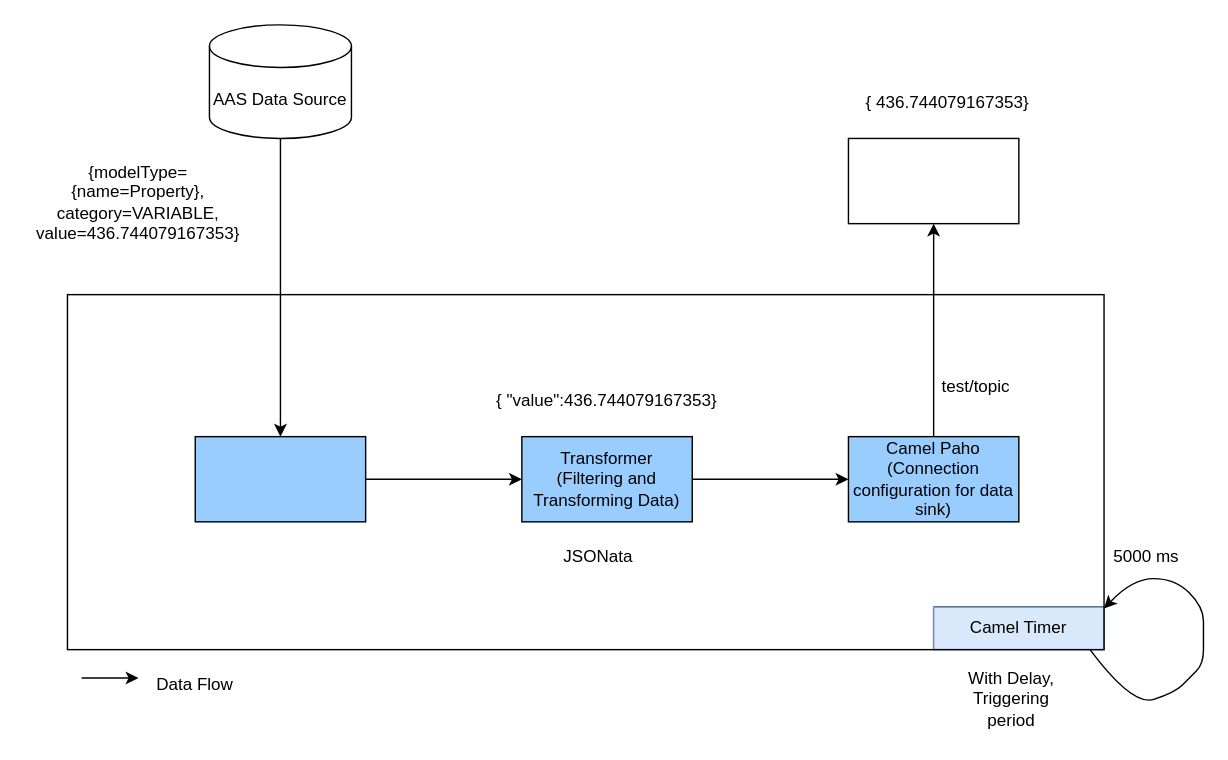
This 1228x760 diagram has some shape labels left out. Each missing label, with the centre of its shape:
"AAS Consumer (Retrieve payload)" goes at point (280, 478).
"MQTT Broker" goes at point (933, 180).
